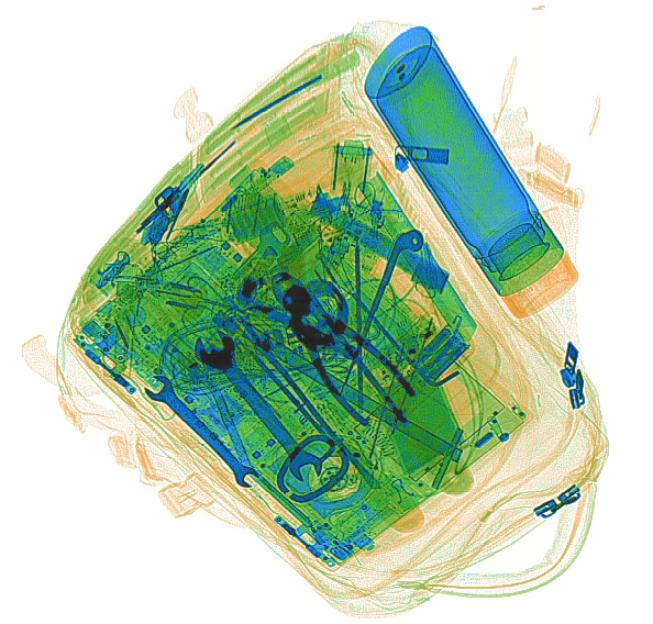USBFlashDisk: (251, 152, 295, 199)
battery: (218, 196, 290, 245), (410, 325, 472, 381)
knife: (355, 170, 479, 342)
